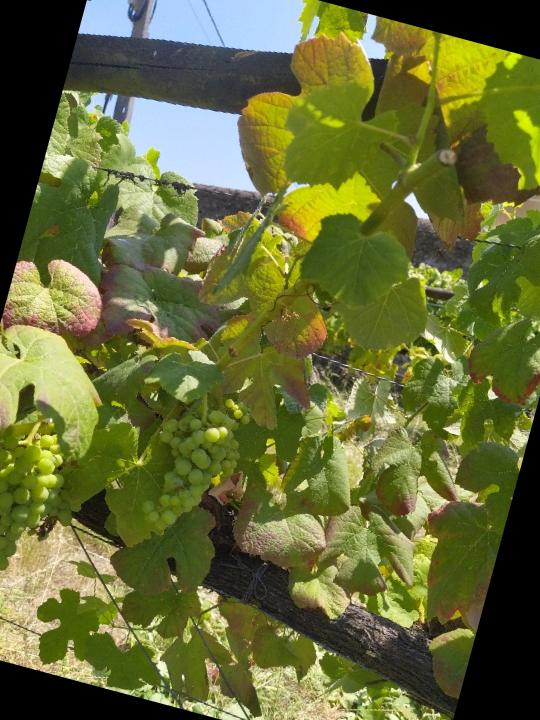grape: (134, 381, 257, 547), (0, 408, 74, 584)
